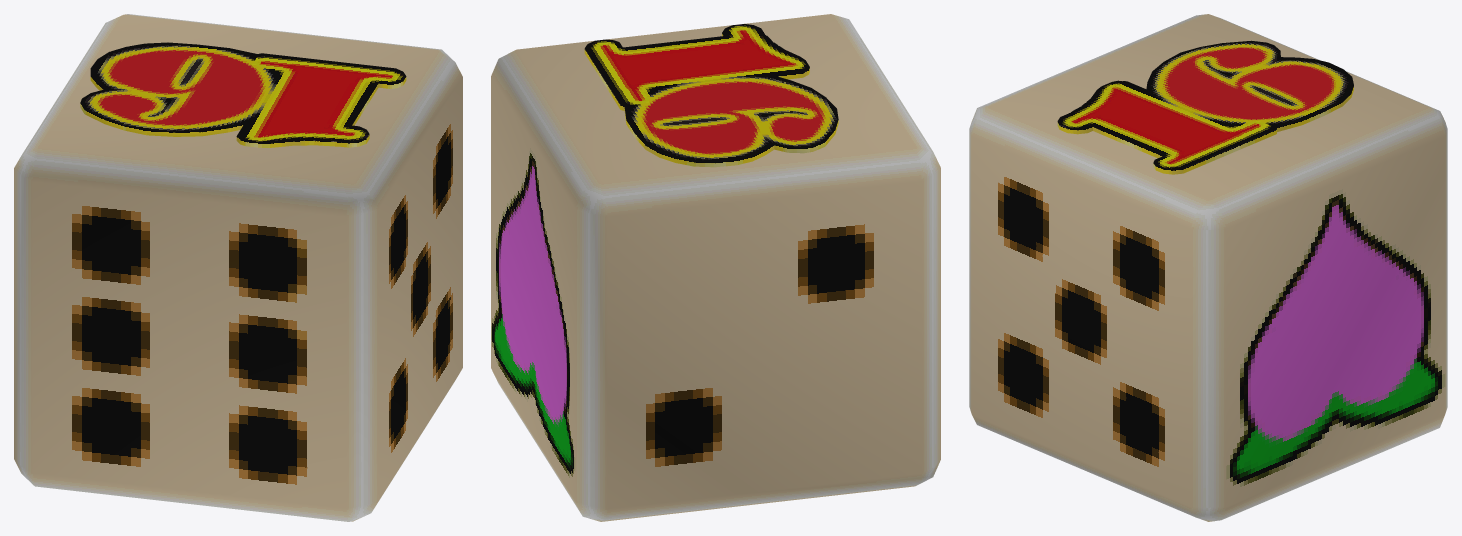
File: ps2_save-icons_momotarodentetsu16.glb
3 renders of one model, left to right at view 1: azimuth 30°, elevation 25°; view 2: azimuth 150°, elevation 25°; view 3: azimuth 270°, elevation 25°, orthographic. The views are drawn at different scales.
Parts seen in each view (by area): view 1: sm_00.ico; view 2: sm_00.ico; view 3: sm_00.ico.
Part boxes in pixels (bbox=[...]): sm_00.ico: bbox=[14, 14, 462, 521]; sm_00.ico: bbox=[491, 14, 940, 521]; sm_00.ico: bbox=[969, 14, 1447, 521].
Size of the model in its own units: 3.32 by 2.51 by 3.32.
Materials: 1 (1 with a texture image).
